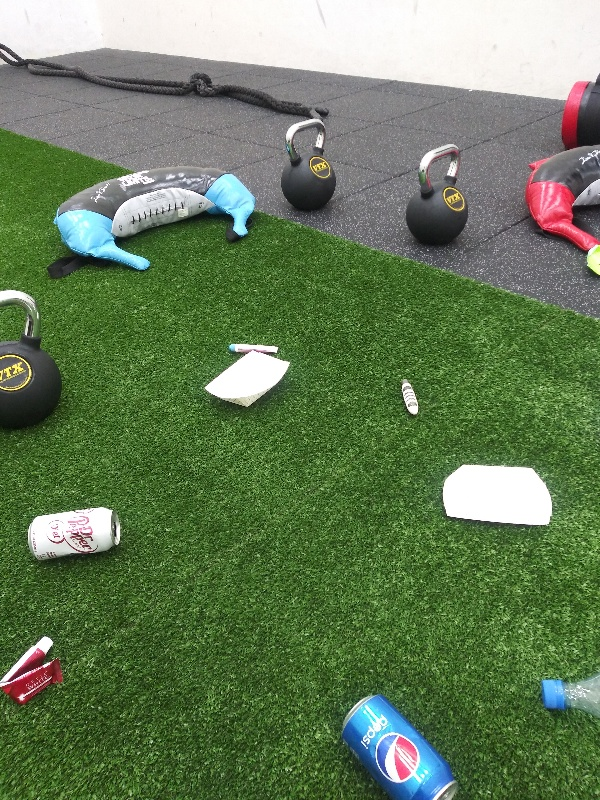bag: (585, 241, 600, 277)
bottle: (540, 667, 600, 720)
can: (338, 692, 464, 800), (25, 503, 122, 563)
plate: (438, 460, 556, 530), (198, 347, 292, 409)
